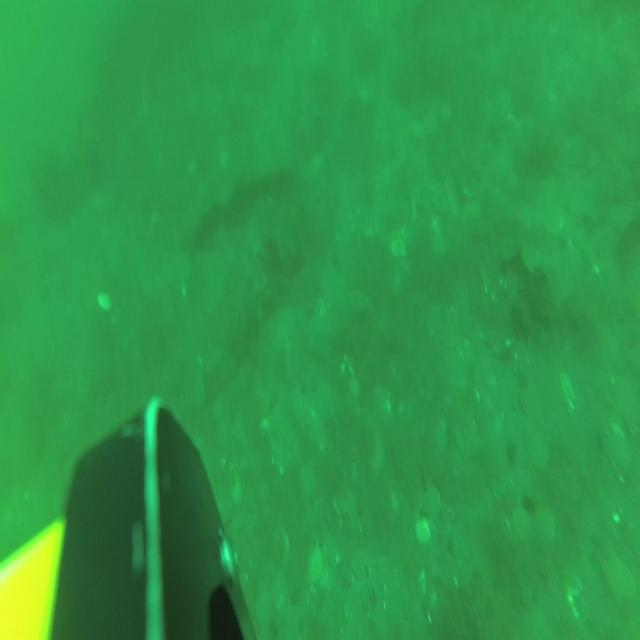scallop: (598, 547, 638, 611), (602, 422, 632, 474), (553, 463, 579, 512), (507, 500, 533, 545), (418, 481, 446, 520), (455, 418, 479, 458), (526, 430, 550, 470), (252, 590, 277, 627), (534, 504, 556, 546), (304, 544, 324, 586), (298, 461, 318, 499), (272, 523, 290, 565), (332, 490, 356, 518), (414, 516, 432, 546), (96, 288, 113, 313)
